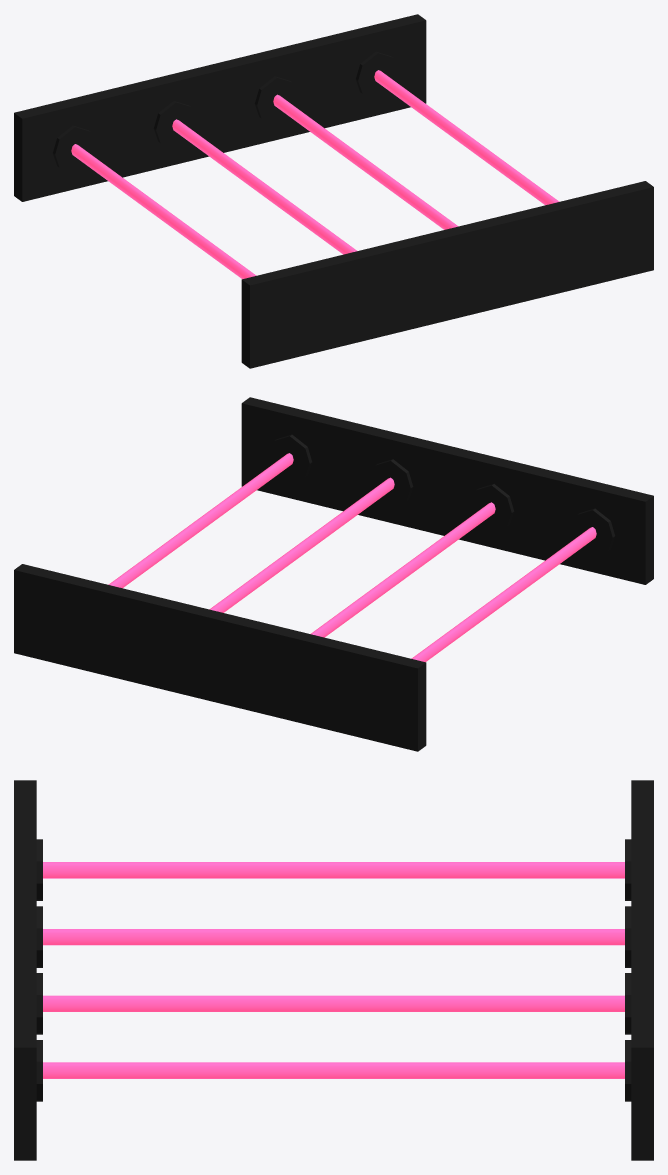
The model's file is laser beam.fbx.
The picture shows the model from 3 angles, top to bottom: view 1: azimuth 30°, elevation 25°; view 2: azimuth 150°, elevation 25°; view 3: azimuth 270°, elevation 25°; orthographic projection. The views are drawn at different scales.
Visible parts, largest first — view 1: Plane.005, Plane.008, Plane.009, Plane.006, Plane.007; view 2: Plane.005, Plane.008, Plane.009, Plane.006, Plane.007; view 3: Plane.005, Plane.006, Plane.007, Plane.008, Plane.009.
Boxes of the visible parts, bbox=[...] form: Plane.005: bbox=[14, 14, 653, 368]; Plane.008: bbox=[273, 94, 458, 229]; Plane.009: bbox=[172, 119, 357, 254]; Plane.006: bbox=[71, 144, 256, 278]; Plane.007: bbox=[374, 70, 559, 205]; Plane.005: bbox=[14, 397, 653, 751]; Plane.008: bbox=[209, 477, 394, 612]; Plane.009: bbox=[310, 502, 495, 637]; Plane.006: bbox=[411, 527, 596, 661]; Plane.007: bbox=[108, 453, 293, 588]; Plane.005: bbox=[14, 780, 653, 1160]; Plane.006: bbox=[43, 862, 624, 878]; Plane.007: bbox=[43, 1062, 624, 1078]; Plane.008: bbox=[43, 995, 624, 1011]; Plane.009: bbox=[43, 929, 624, 945].
Size of the model in its own units: 200 by 39.4 by 202.
